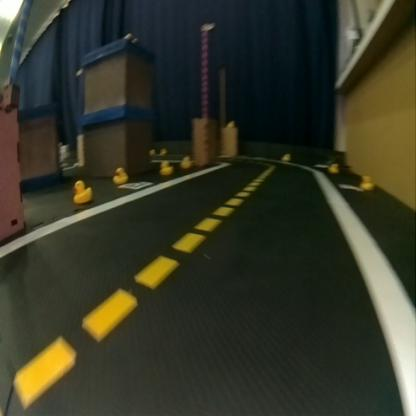Duckie: (74, 181, 90, 203), (112, 167, 126, 183), (362, 176, 374, 189), (160, 160, 171, 172), (328, 162, 338, 172), (180, 156, 190, 165), (283, 152, 290, 160), (227, 119, 233, 128)
QR code: (118, 181, 152, 188)
